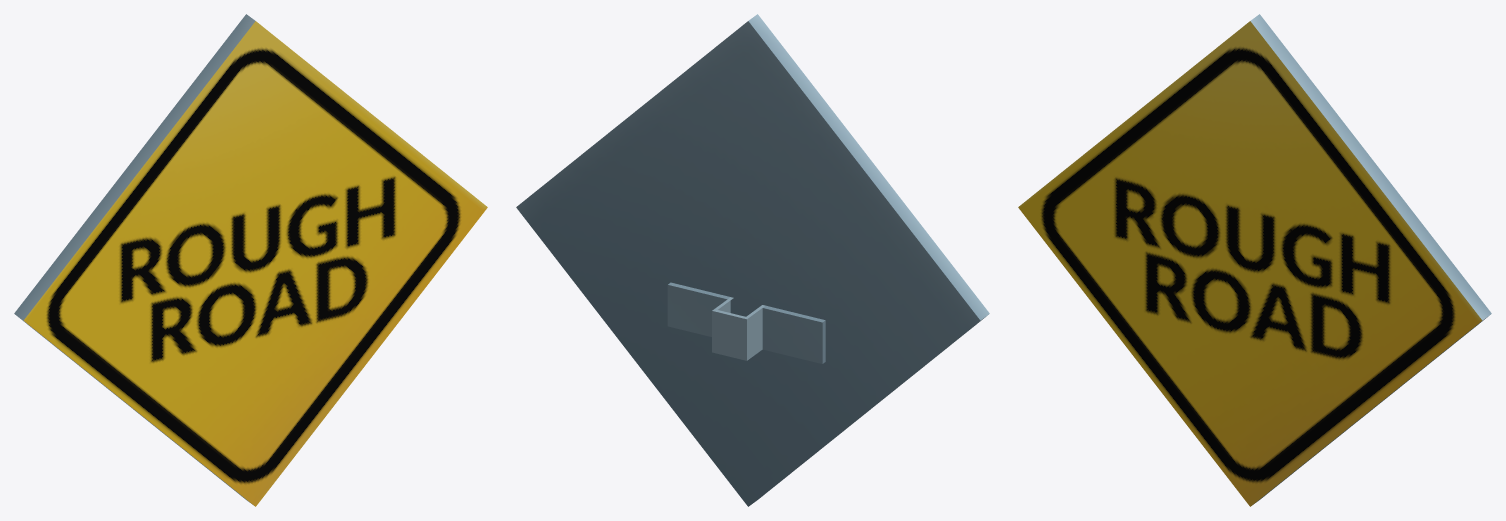
File: Sign44.fbx
3 renders of one model, left to right at view 1: azimuth 30°, elevation 25°; view 2: azimuth 150°, elevation 25°; view 3: azimuth 330°, elevation 25°, orthographic.
Visible parts, largest first — view 1: Sign44; view 2: Sign44; view 3: Sign44.
Boxes of the visible parts, box(x1,y1,x2,y2) form: Sign44: box(14, 14, 487, 506); Sign44: box(516, 14, 989, 506); Sign44: box(1018, 14, 1491, 506).
Bounding box in the file's own units: 1.41 × 0.1489 × 1.41.
